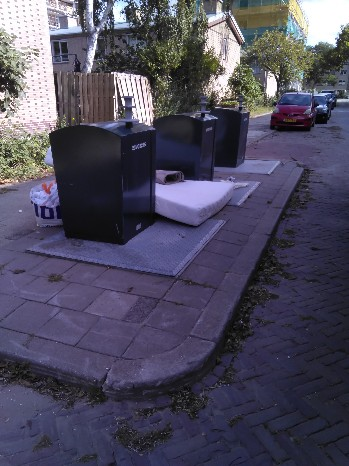Container: (55, 116, 154, 231), (159, 101, 218, 170), (224, 95, 259, 164)
Rest: (155, 173, 228, 238), (24, 175, 62, 218)
